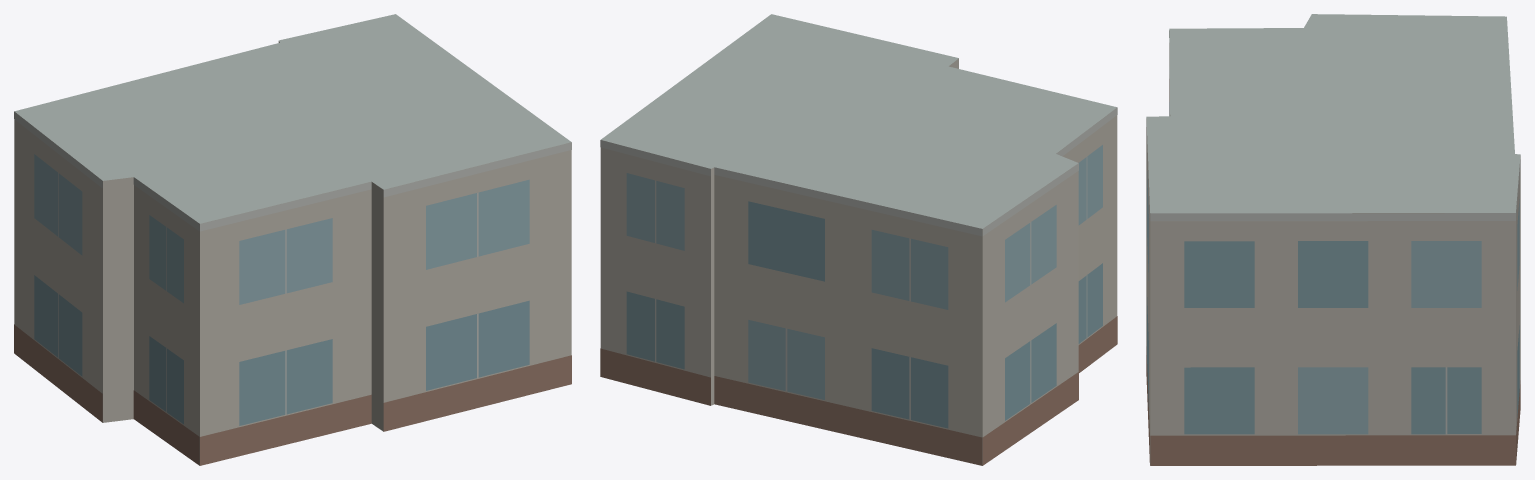
File: survey-upis-32501175.glb
3 views of the same model, side by side, from view 1: azimuth 30°, elevation 25°; view 2: azimuth 150°, elevation 25°; view 3: azimuth 270°, elevation 25° (orthographic). The views are drawn at different scales.
Parts seen in each view (by area): view 1: survey-upis-32501175.tmp; view 2: survey-upis-32501175.tmp; view 3: survey-upis-32501175.tmp.
Boxes of the visible parts, left/top/right/bottom form: survey-upis-32501175.tmp: left=14, top=14, right=571, bottom=465; survey-upis-32501175.tmp: left=600, top=14, right=1117, bottom=465; survey-upis-32501175.tmp: left=1146, top=14, right=1520, bottom=465.
Size of the model in its own units: 12.96 by 7.65 by 10.28.
